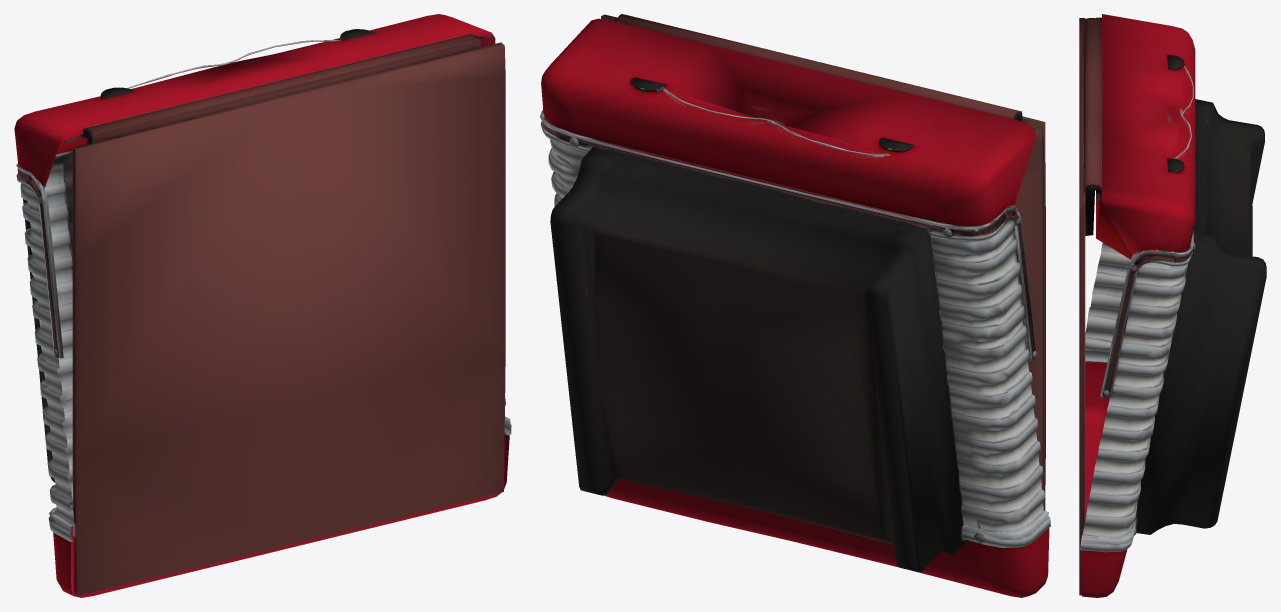
3 views of the same model, side by side, from view 1: azimuth 30°, elevation 25°; view 2: azimuth 150°, elevation 25°; view 3: azimuth 270°, elevation 25° (orthographic). The views are drawn at different scales.
Visible parts, largest first — view 1: tripo_node_9f705097-2f84-46df-b380-76185388cc53; view 2: tripo_node_9f705097-2f84-46df-b380-76185388cc53; view 3: tripo_node_9f705097-2f84-46df-b380-76185388cc53.
Boxes of the visible parts, <box> form: tripo_node_9f705097-2f84-46df-b380-76185388cc53: <box>14,14,511,597</box>; tripo_node_9f705097-2f84-46df-b380-76185388cc53: <box>540,14,1050,597</box>; tripo_node_9f705097-2f84-46df-b380-76185388cc53: <box>1079,14,1266,597</box>.
Bounding box in the file's own units: 0.998 × 0.998 × 0.416.
Materials: 1 (1 with a texture image).
